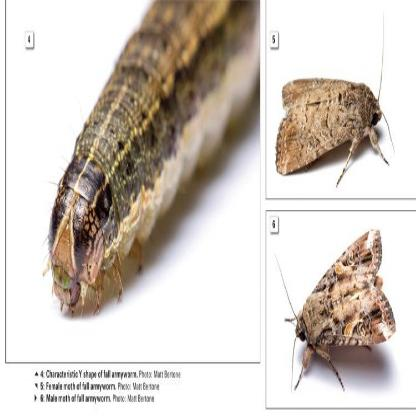armyworm: (18, 3, 258, 356), (282, 226, 397, 388), (278, 49, 393, 184)
